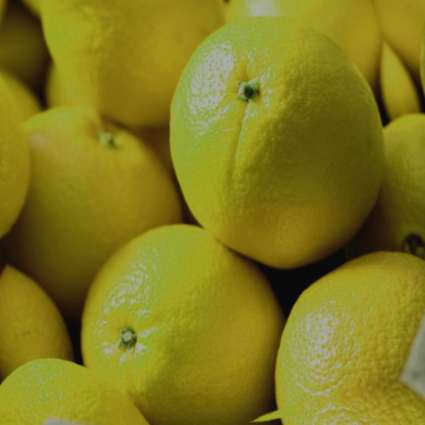orange: (122, 0, 423, 306), (32, 174, 320, 425)
